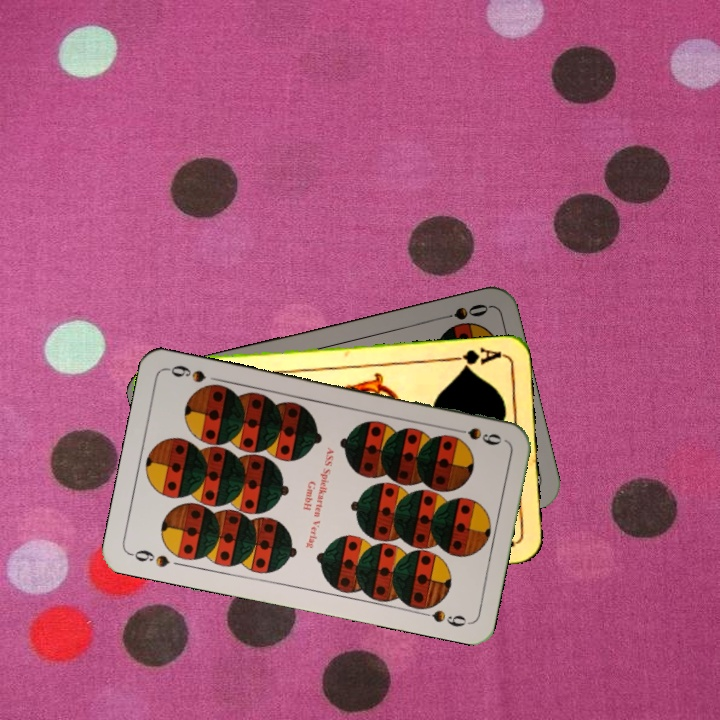GA: (445, 344, 504, 372)
S9: (448, 423, 503, 448), (126, 545, 172, 570)
SO: (432, 300, 491, 323)
